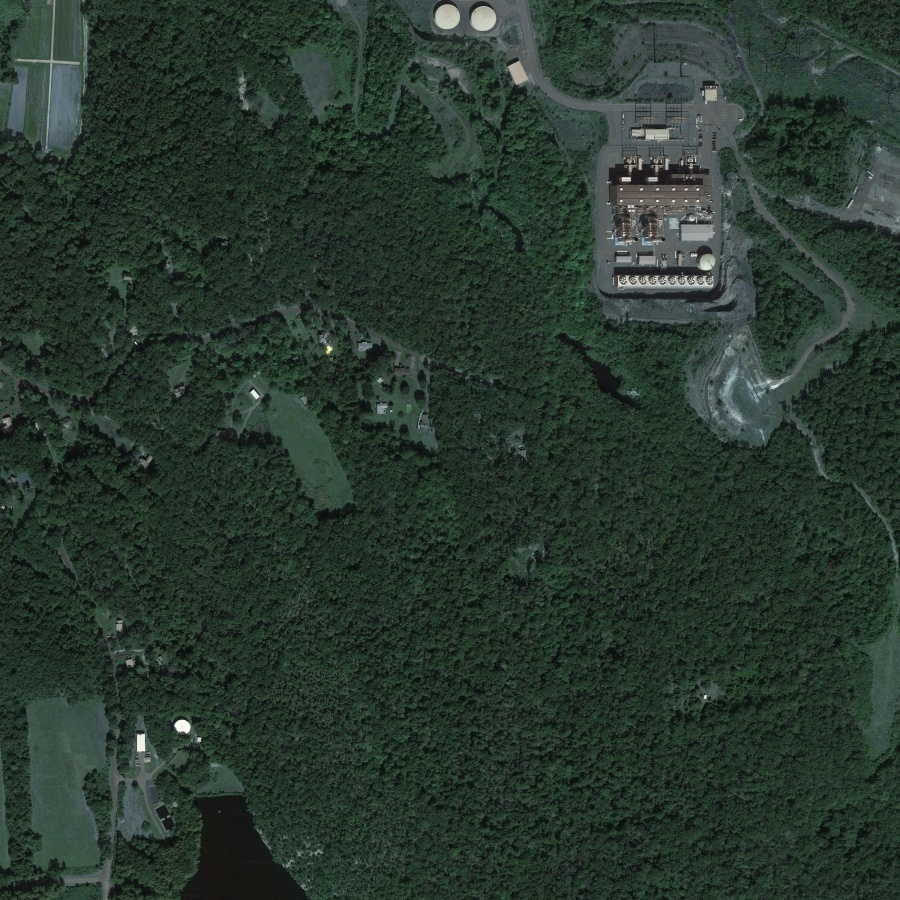PowerPlant: (600, 65, 746, 305)
